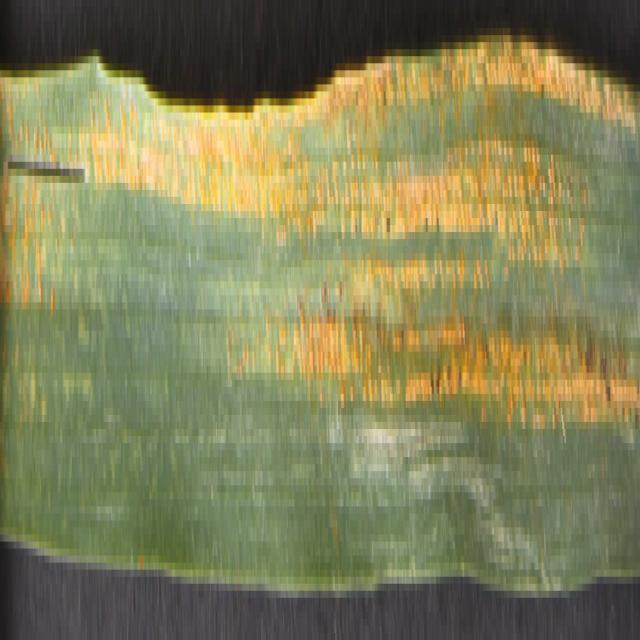leaf rust: (0, 7, 638, 478)
